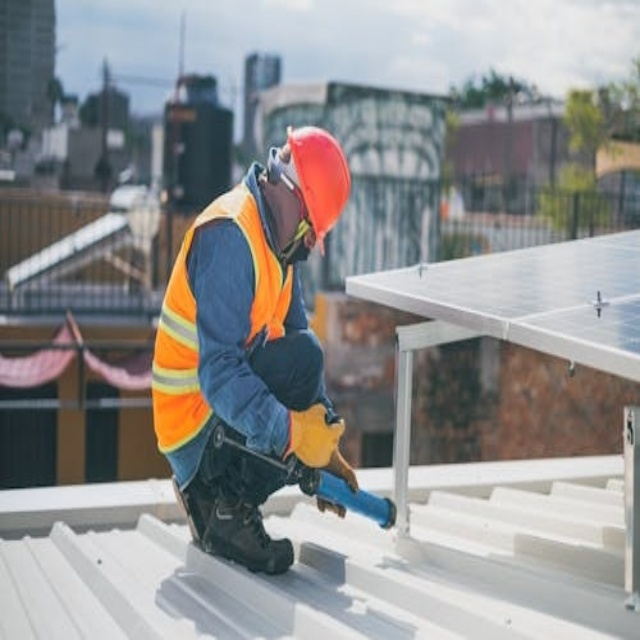Gafas: (270, 147, 314, 260)
Guantes: (286, 401, 347, 471)
Mascara: (260, 161, 311, 265)
